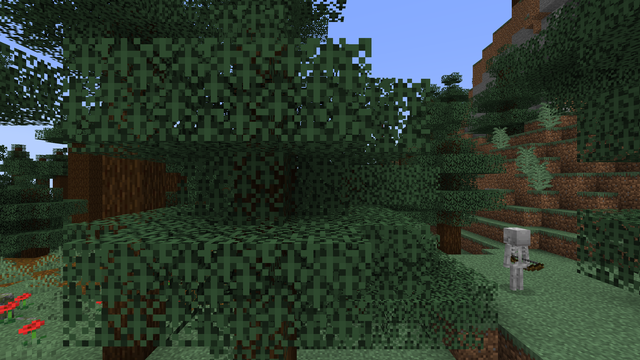squelettes: (501, 227, 533, 292)
